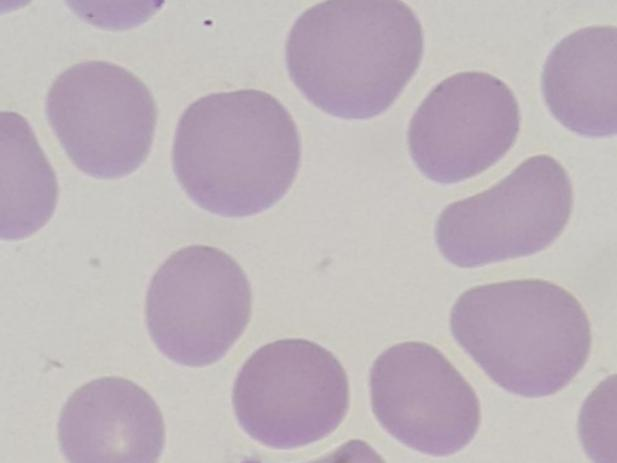Uninfected: (449, 279, 589, 402), (174, 90, 303, 216), (290, 0, 423, 121), (434, 155, 574, 269), (144, 240, 253, 368), (234, 335, 351, 450), (45, 58, 157, 178), (369, 340, 481, 456), (407, 70, 518, 186), (539, 23, 617, 140), (59, 378, 165, 463), (0, 114, 61, 239)
